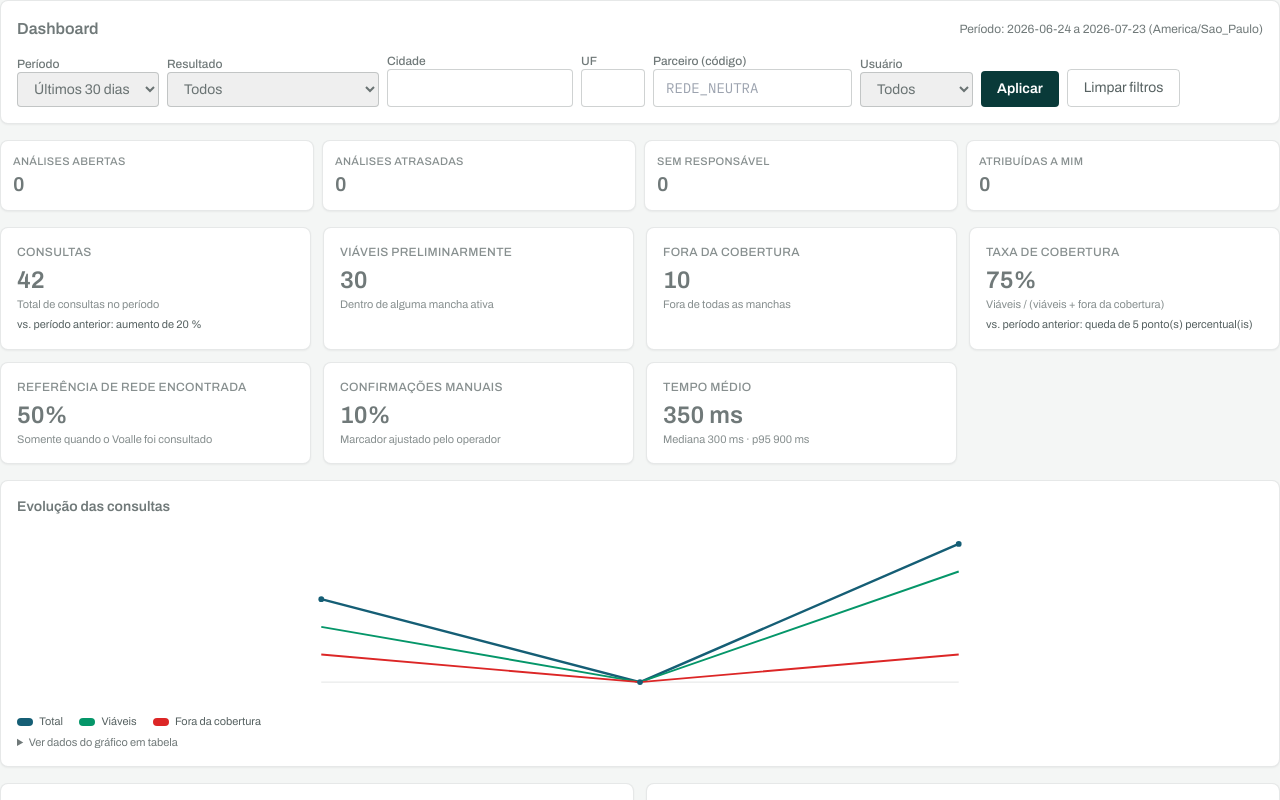
Test: DashboardPage › mostra a timeline com períodos sem dados e alternativa tabular acessível
Click the heading "Ver dados do gráfico em tabela": {"x": 103, "y": 742} [29,736,178,748]
(page scrolled)
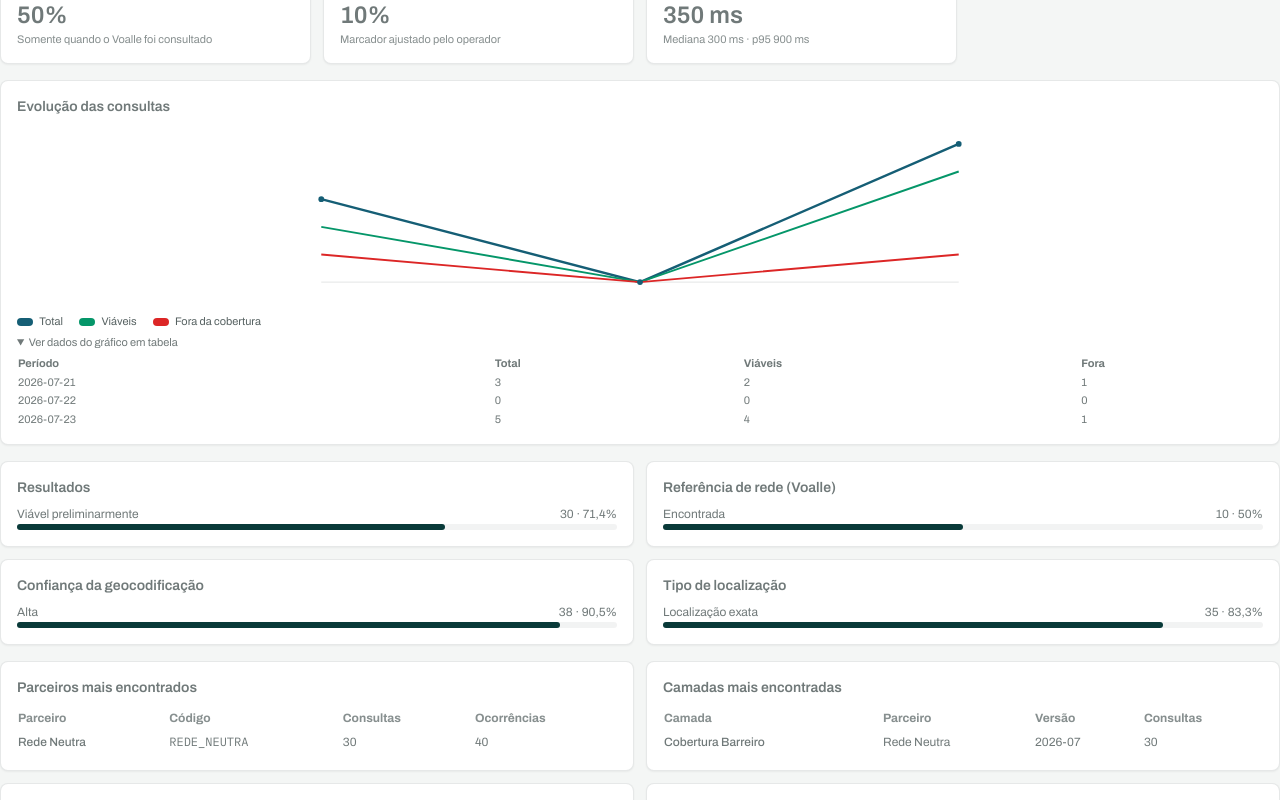
Expected: the text "2026-07-22" is shown, [17,391,494,410]
